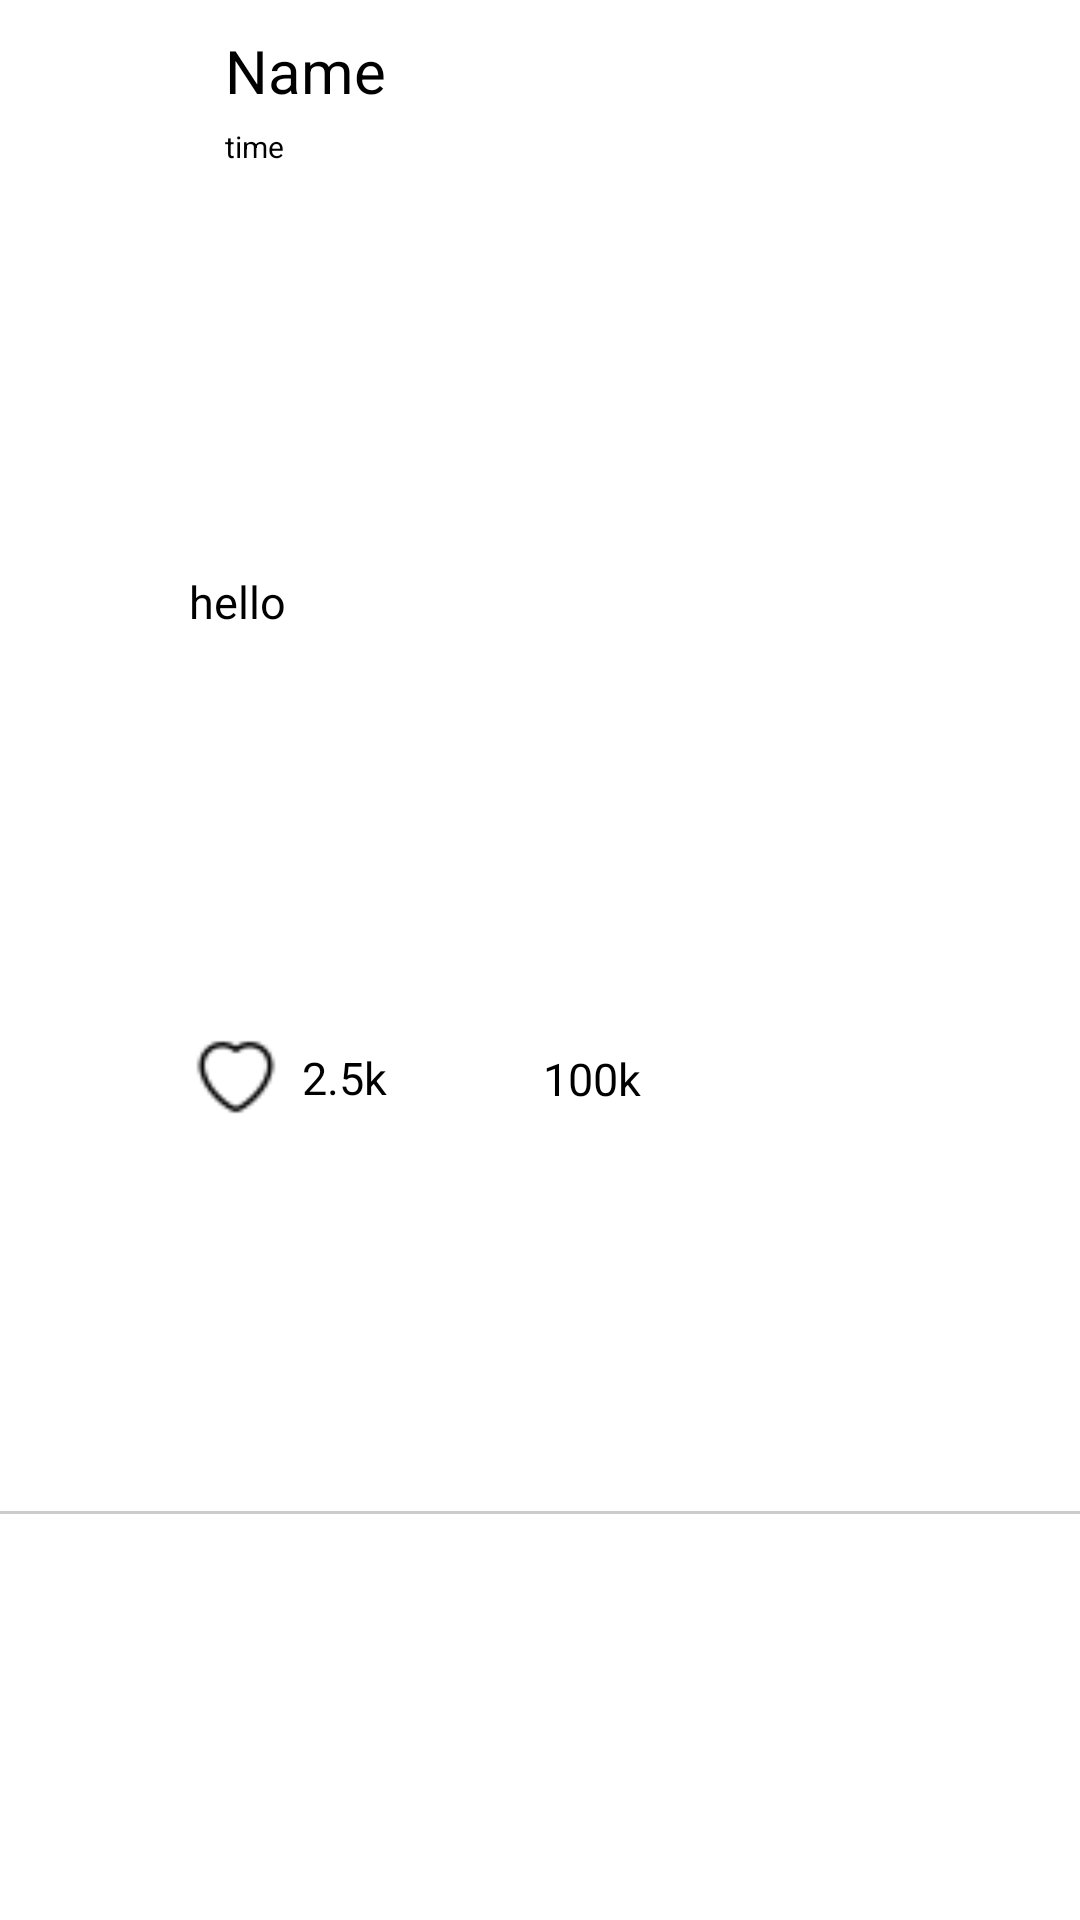

Screen size 1080*1920. Icon name, then its center in pixels as (x,y):
outlinedlikebtn: (236,1077)
